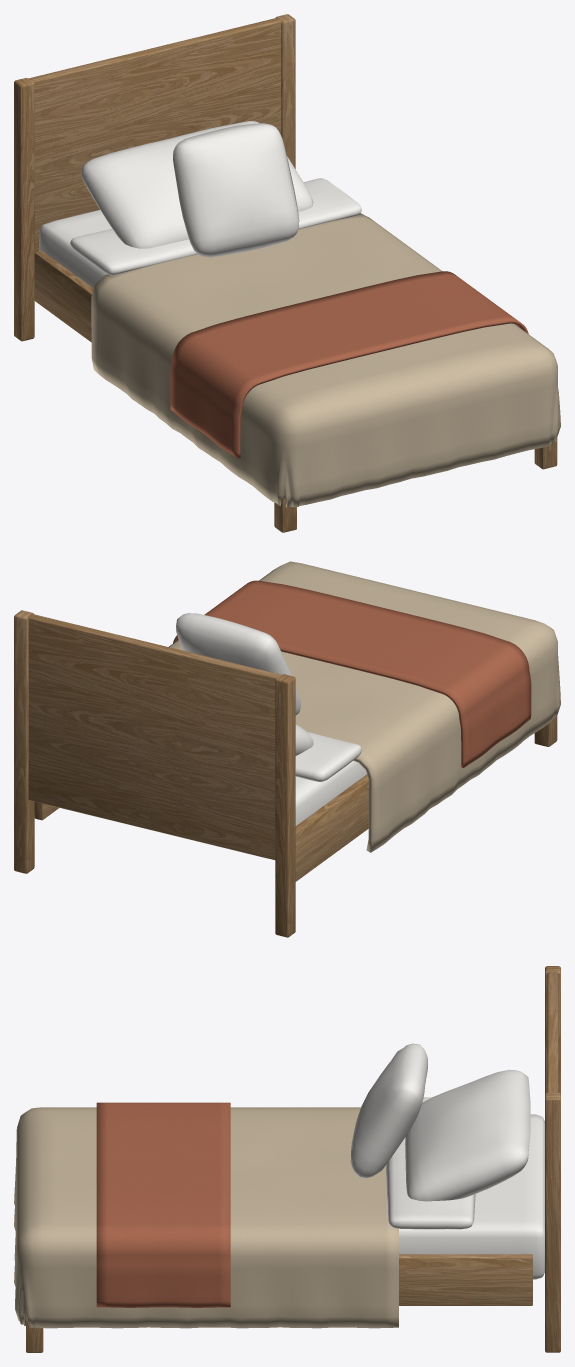
File: cama_madera_105.glb
The picture shows the model from 3 angles, top to bottom: view 1: azimuth 30°, elevation 25°; view 2: azimuth 150°, elevation 25°; view 3: azimuth 270°, elevation 25°; orthographic projection.
Visible parts, largest first — view 1: cama_madera_105; view 2: cama_madera_105; view 3: cama_madera_105.
Boxes of the visible parts, x1,y1,x2,y2 form: cama_madera_105: (14,14,560,532); cama_madera_105: (14,561,560,937); cama_madera_105: (14,966,560,1352).
Size of the model in its own units: 1.27 by 1.05 by 2.04.
Materials: 4 (4 with a texture image).
